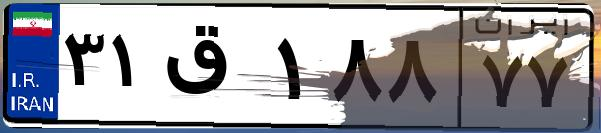1: (270, 28, 330, 110), (110, 28, 158, 98)
3: (57, 26, 110, 100)
7: (475, 38, 525, 113), (525, 38, 570, 115)
8: (385, 28, 445, 110), (330, 28, 385, 110)
ق: (158, 20, 270, 120)
